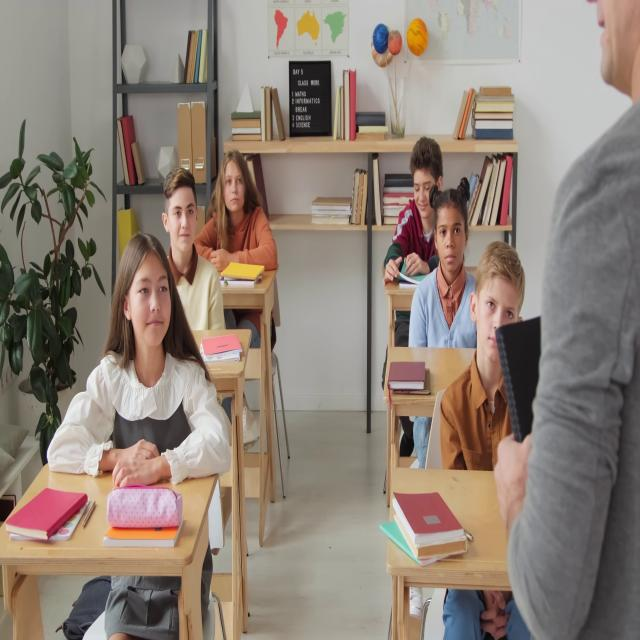listening: (46, 240, 235, 639), (201, 150, 282, 443), (439, 245, 527, 473), (407, 185, 475, 356), (163, 168, 228, 334), (381, 136, 443, 296)
